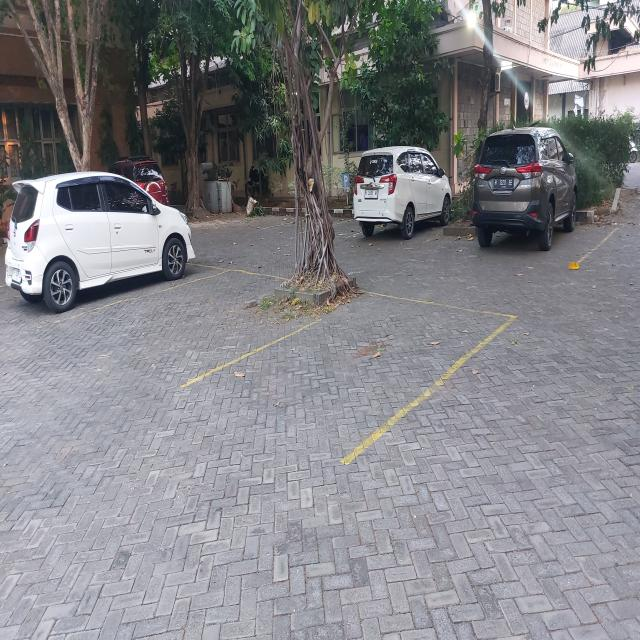empty: (191, 289, 514, 460), (74, 270, 368, 386)
occupied: (5, 171, 228, 315), (461, 126, 618, 262), (345, 146, 455, 243)
